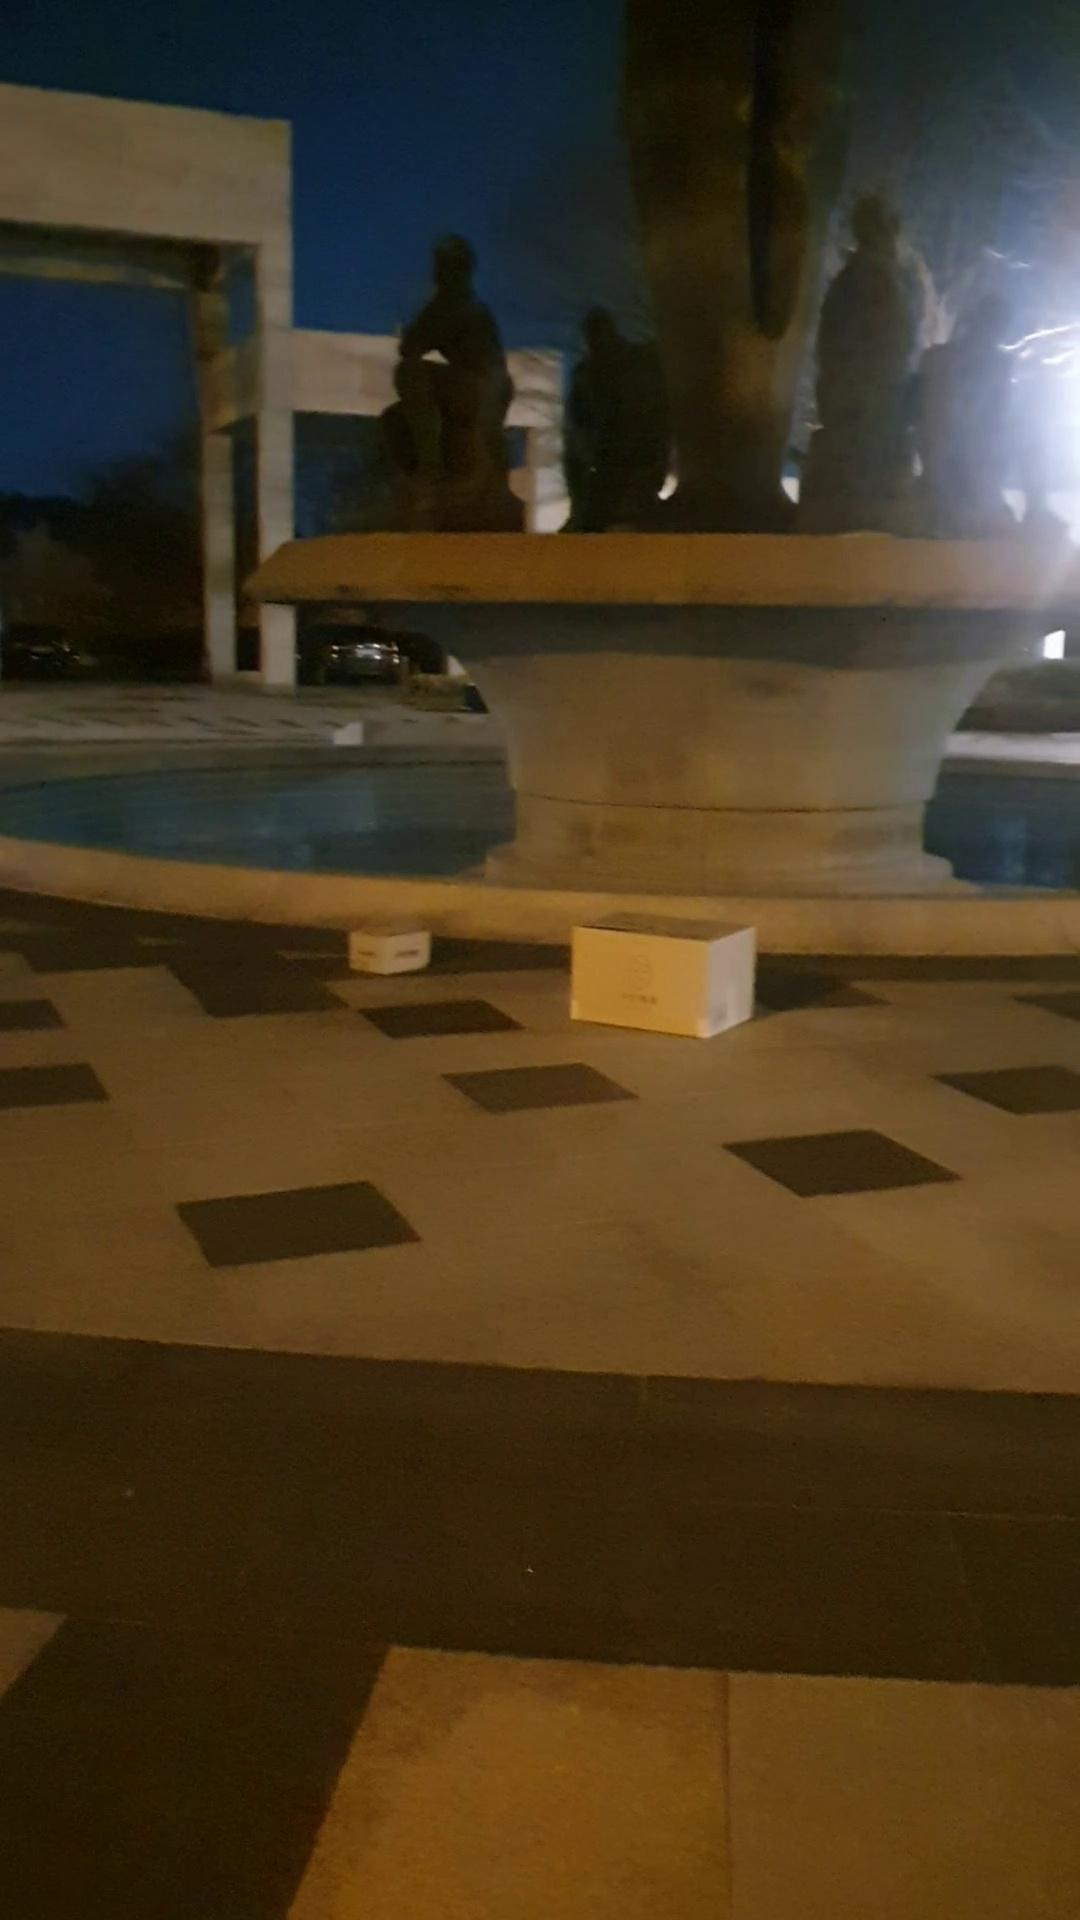Box: (538, 909, 769, 1048), (328, 905, 444, 985)
